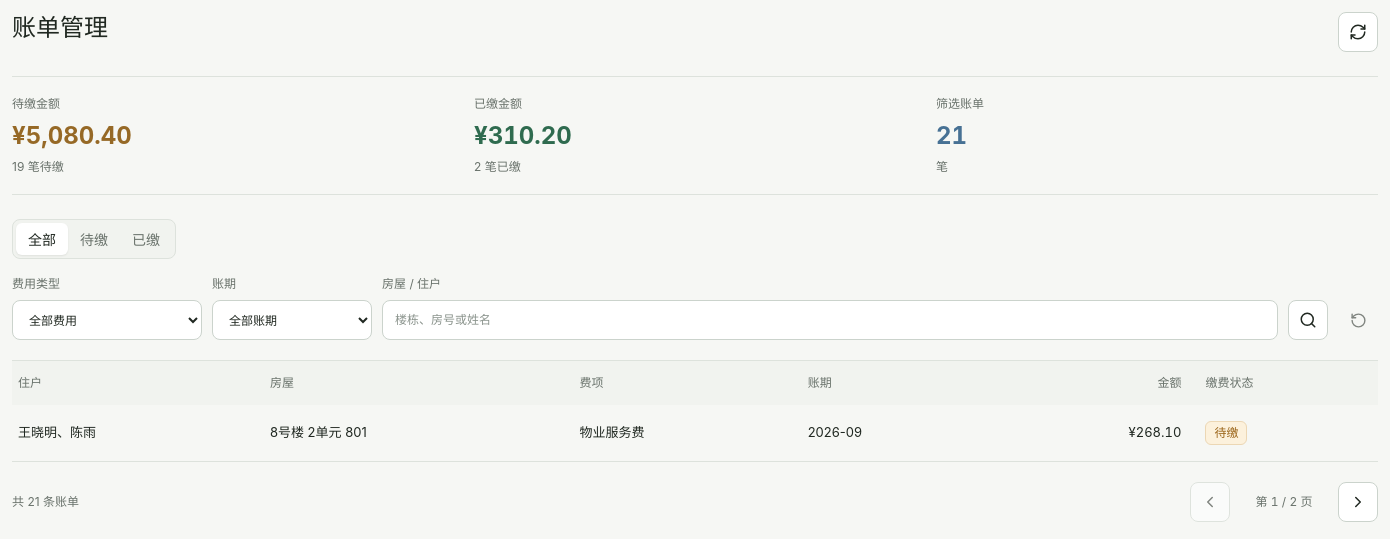
Test: community billing management › shows household bills and totals for the full filter, then loads the next page
Expected: the text "王晓明、陈雨" is shown, [12,405,258,462]
Expected: the text "8号楼 2单元 801" is shown, [258,405,568,462]
Click the button named "下一页" at (1358, 502), box [1338,482,1378,522]
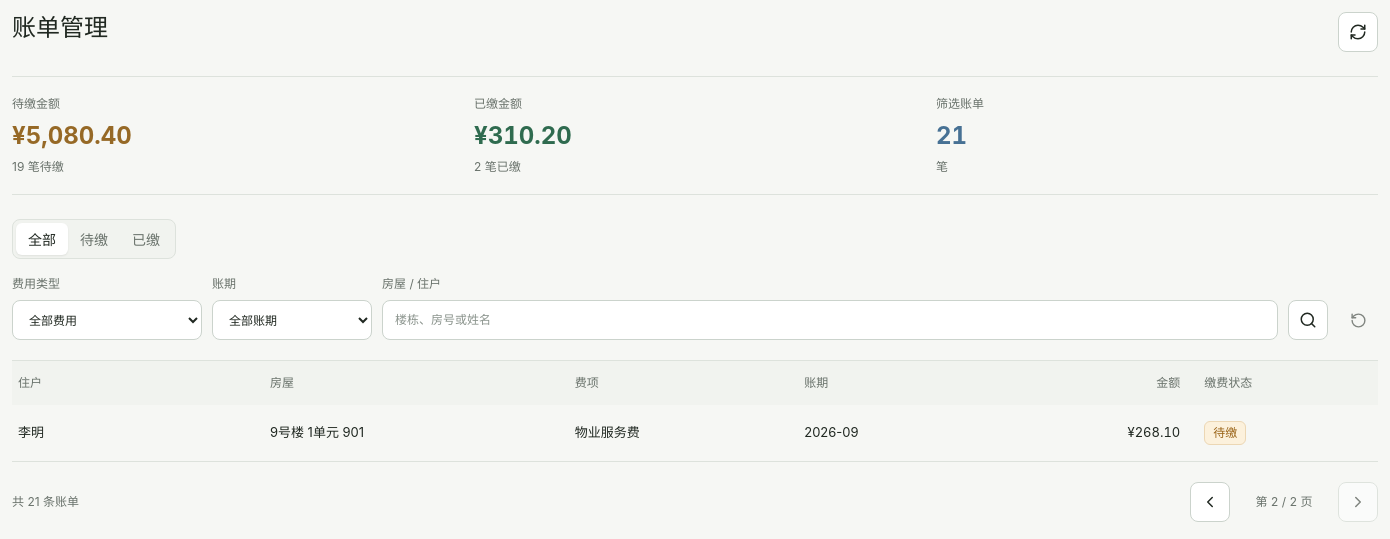
Expected: the text "李明" is shown, [12,405,258,462]
Expected: the text "第 2 / 2 页" is shown, [1256,494,1312,509]
